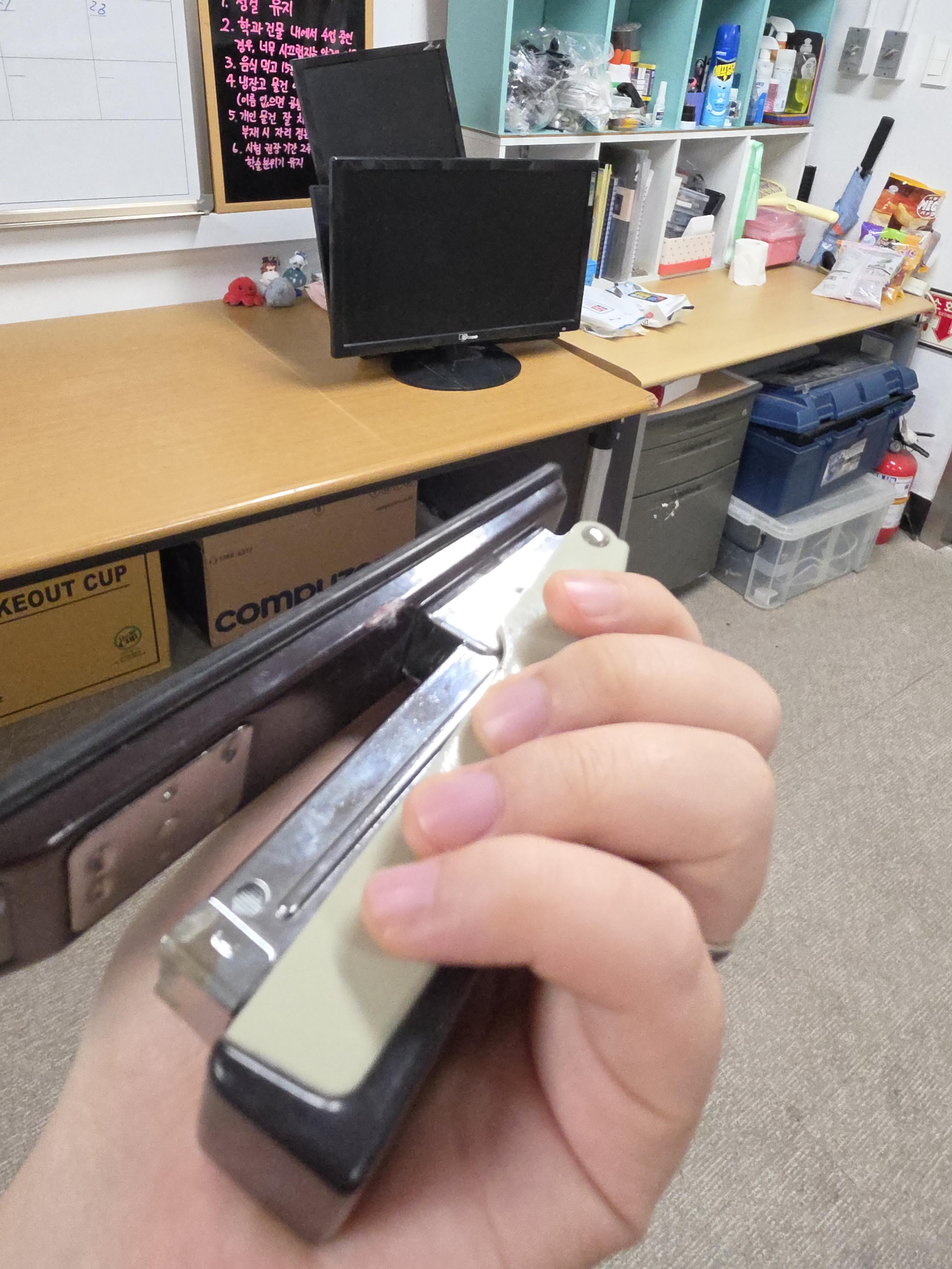stapler: (0, 461, 630, 1244)
tissue: (728, 237, 769, 286)
